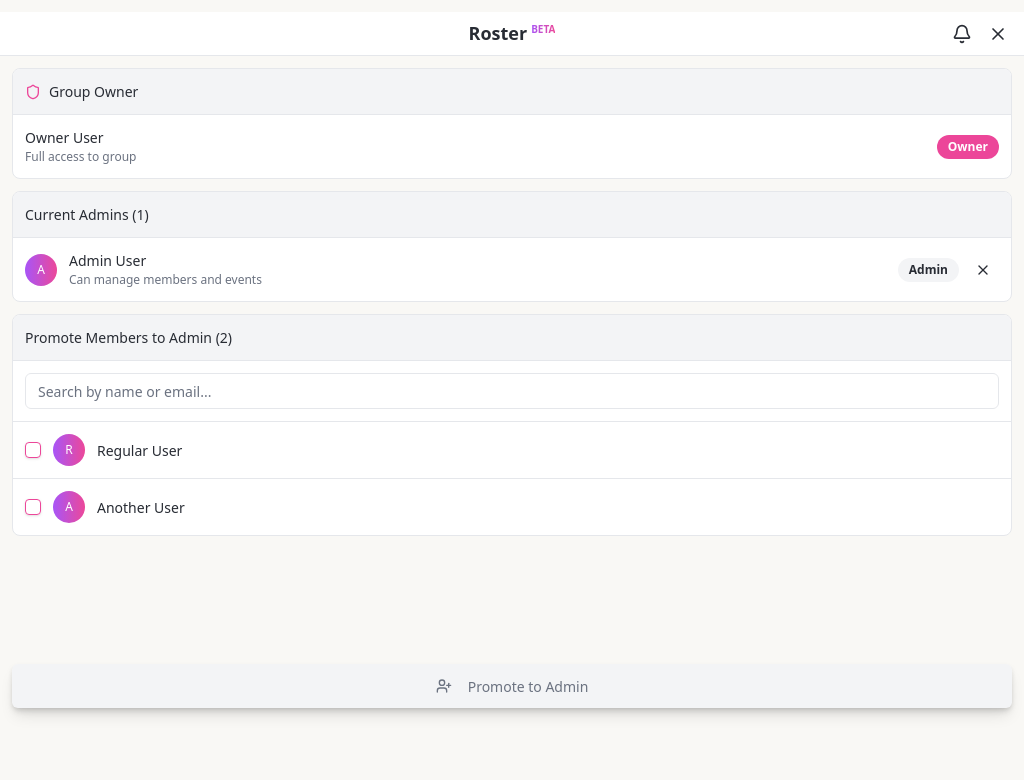
ManageRolesPage › authorized owner view › should show no members found when search has no results
Check: the text "Regular User" is shown, box [97, 440, 182, 460]
Type "xyz123notfound" into the search field with placeholder "Search by name or email...".
click(512, 391); type("xyz123notfound")  # box [25, 373, 999, 409]
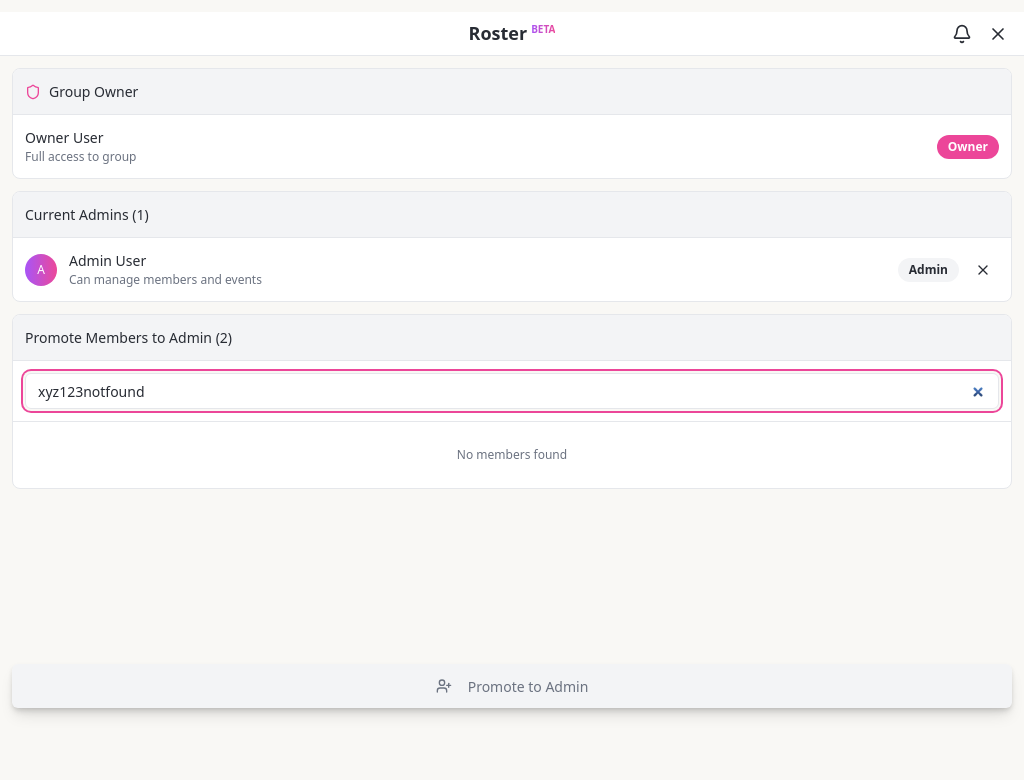
Check: the text "No members found" is shown, box [457, 446, 567, 463]
